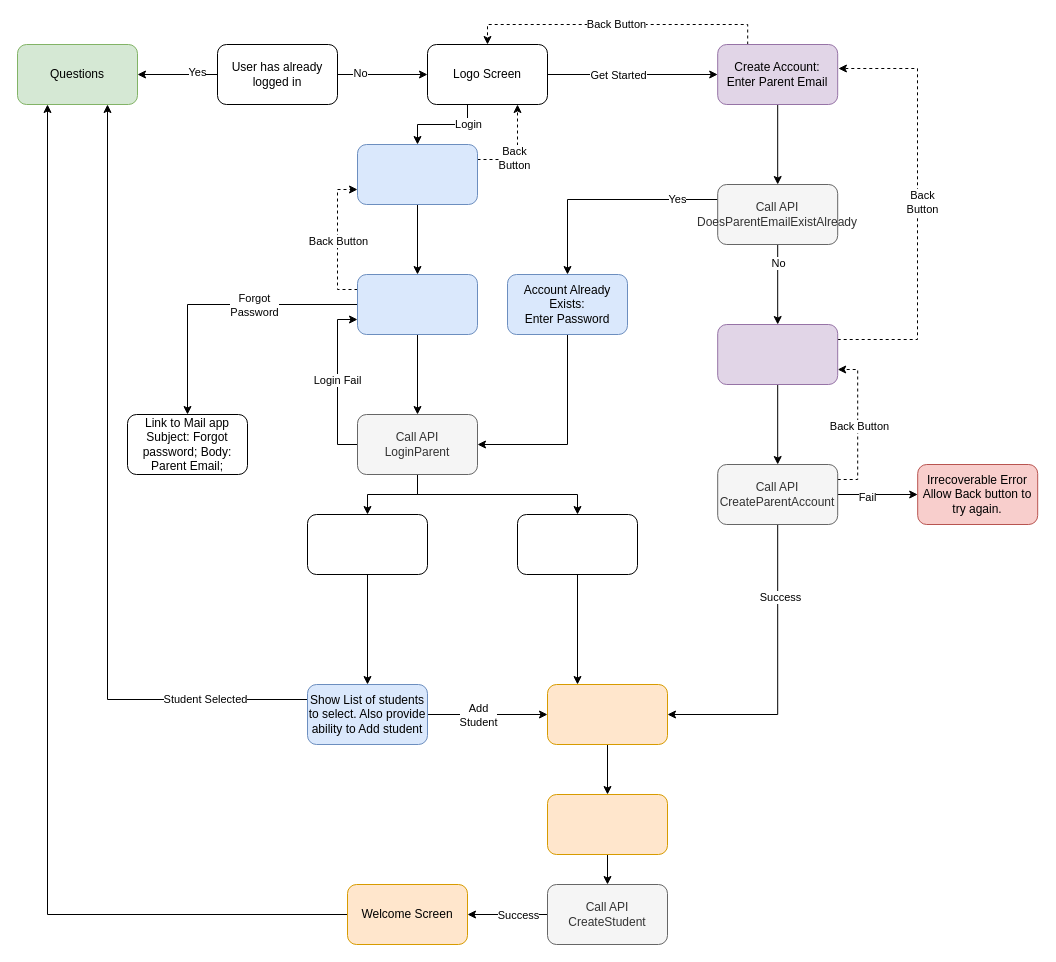
Image size: 1056x962. Some labels were removed from this diagram. The shapes that lost their labels are listed below. From the top down, each one's box as (x1, y1, x2, y2) in pixels, then its label:
(356, 144, 478, 204): Login: Enter Parent Email
(356, 274, 478, 334): Login: Enter Password
(717, 324, 838, 384): Create Account: Enter Password
(306, 514, 428, 574): Success Parent has1 or more Students
(516, 514, 638, 574): Success But Parent has 0 Students
(546, 684, 668, 744): Add Student: Enter NickName
(546, 794, 668, 854): Add Student: Enter Grade
